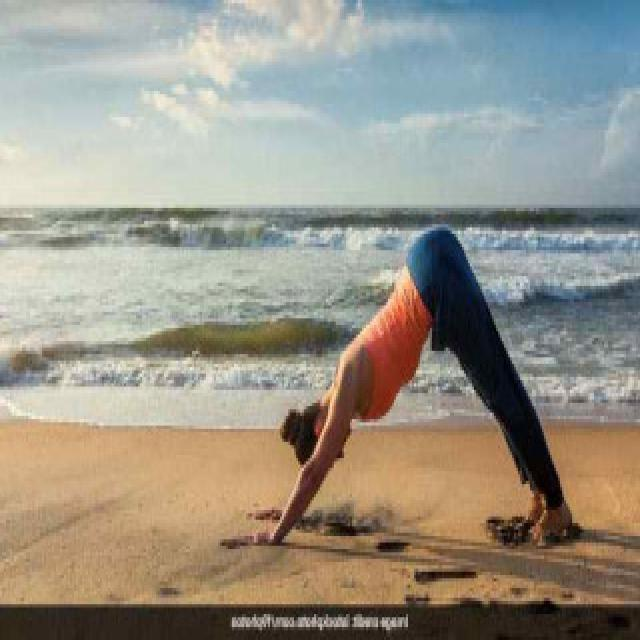yoga-pose downward: (238, 222, 576, 550)
